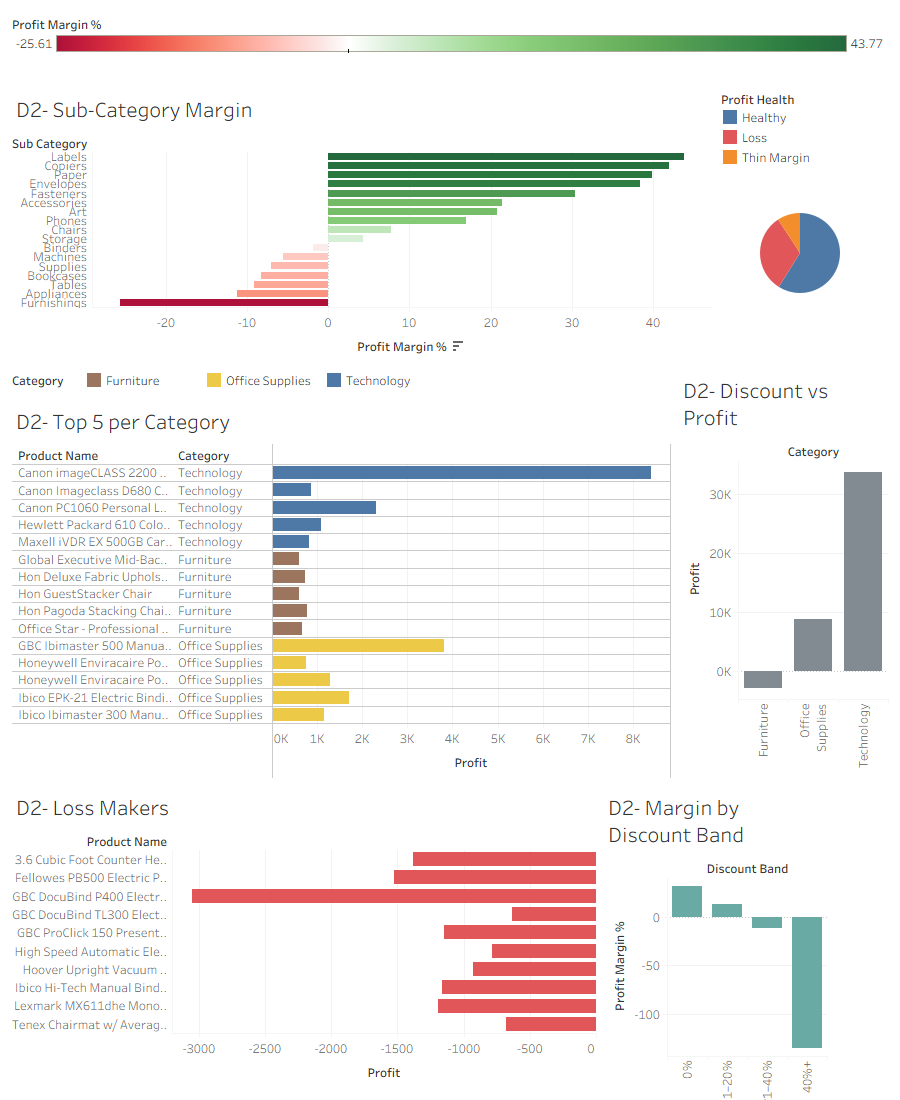

The dashboard page shown, as its layout file describes it:
{"tool":"tableau","page":{"name":"D2- Profitability","canvas":[900,1100],"ordinal":1},"visuals":[{"type":"legend","title":"D2- Sub-Category Margin","param":"[federated.10387ro0izt5ks16vwlgk15n9znr].[usr:Calculation_0299118397710338:qk]","box":[8,8,884,77]},{"type":"worksheet","title":"D2- Sub-Category Margin","mark":"Automatic","rows":["sub_category"],"cols":["Calculation_0299118397710338"],"box":[8,85,708.3,281]},{"type":"legend","title":"D2- Profit Health Split","param":"[federated.10387ro0izt5ks16vwlgk15n9znr].[none:Calculation_0299118433296395:nk]","box":[716.3,85,175.7,84]},{"type":"worksheet","title":"D2- Profit Health Split","mark":"Pie","box":[716.3,169,175.7,197]},{"type":"legend","title":"D2- Top 5 per Category","param":"[federated.10387ro0izt5ks16vwlgk15n9znr].[none:category:nk]","box":[8,366,666.6,31]},{"type":"worksheet","title":"D2- Discount vs Profit","mark":"Automatic","rows":["profit"],"cols":["category"],"box":[674.6,366,217.4,417]},{"type":"worksheet","title":"D2- Top 5 per Category","mark":"Automatic","rows":["product_name","category"],"cols":["profit"],"box":[8,397,666.6,386]},{"type":"worksheet","title":"D2- Loss Makers","mark":"Automatic","rows":["product_name"],"cols":["profit"],"box":[8,783,592,309]},{"type":"worksheet","title":"D2- Margin by Discount Band","mark":"Automatic","rows":["Calculation_0299118397710338"],"cols":["Calculation_0299118430461960"],"box":[600,783,292,309]}]}

Visuals, with their boxes in screenshot pixels (x1, y1, x2, y2), scaled from the page's 900x1100 canvas onto the 900x1100 screenshot:
"D2- Sub-Category Margin" legend: 8/8/892/85
"D2- Sub-Category Margin" worksheet: 8/85/716/366
"D2- Profit Health Split" legend: 716/85/892/169
"D2- Profit Health Split" worksheet (Pie marks): 716/169/892/366
"D2- Top 5 per Category" legend: 8/366/675/397
"D2- Discount vs Profit" worksheet: 675/366/892/783
"D2- Top 5 per Category" worksheet: 8/397/675/783
"D2- Loss Makers" worksheet: 8/783/600/1092
"D2- Margin by Discount Band" worksheet: 600/783/892/1092
